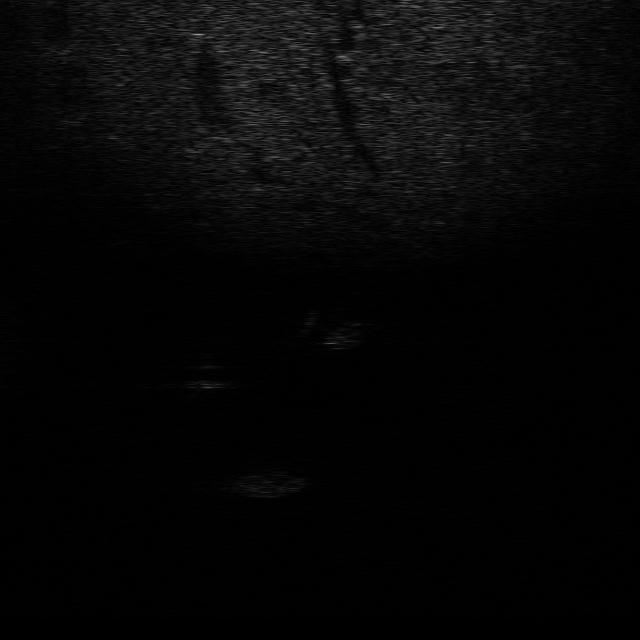ball: (180, 358, 239, 392)
circle cage: (223, 462, 305, 500)
human body: (291, 306, 369, 350)
